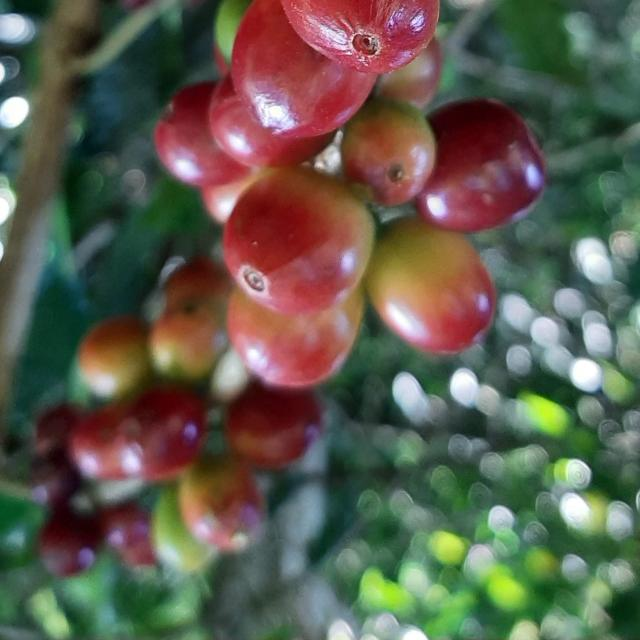green: (151, 485, 216, 574)
red: (231, 0, 377, 137), (416, 98, 546, 232), (281, 0, 440, 73), (209, 75, 334, 166), (154, 81, 250, 187), (225, 383, 322, 469), (125, 386, 206, 481), (68, 404, 142, 481), (38, 508, 100, 578), (98, 503, 156, 567)
yellow: (223, 166, 374, 315), (365, 217, 497, 354), (227, 285, 365, 388), (342, 97, 436, 205), (178, 454, 264, 552), (77, 316, 148, 399), (149, 310, 226, 382), (165, 256, 232, 314)
